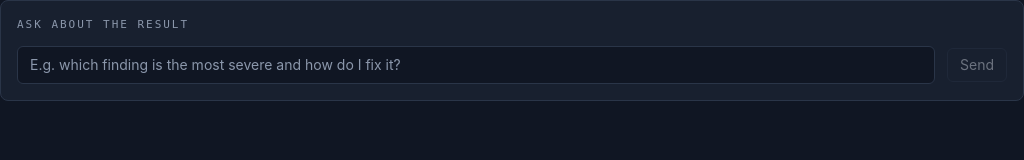
Scenario: ChatDock › UI-03: desabilita enquanto espera a resposta
Type "Q" into the field named "Question about the result". click: point(476, 64)
box: [17, 46, 935, 84]
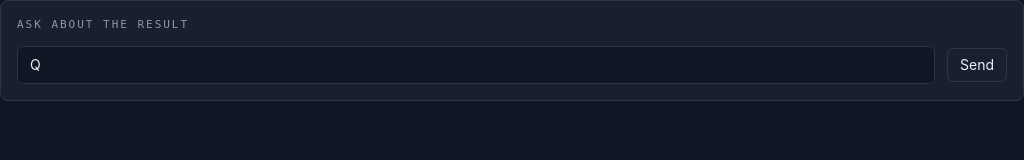
Click the button "Send". click: point(977, 64)
box: [947, 48, 1007, 82]
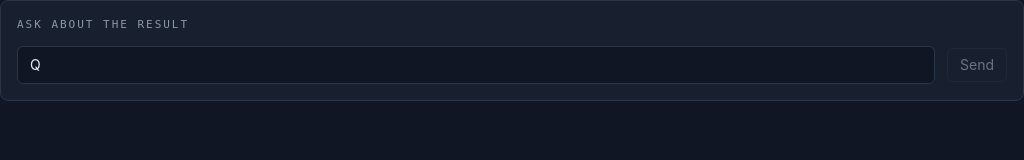
Expected: the field named "Question about the result" is disabled, [17, 46, 935, 84]
Expected: the button "Send" is disabled, [947, 48, 1007, 82]
